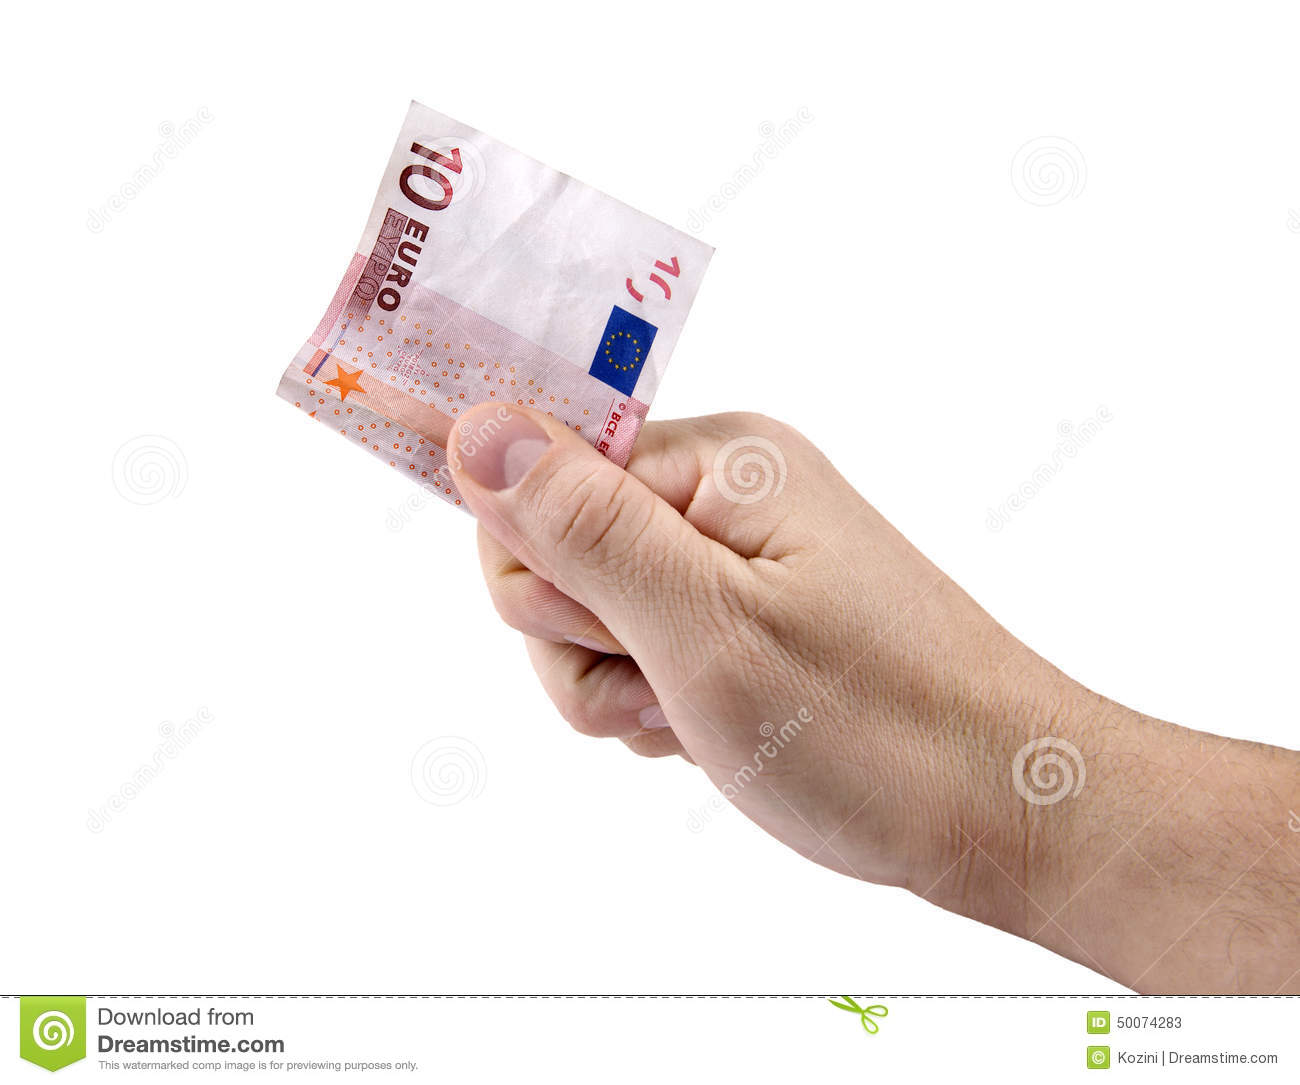billete: (271, 95, 725, 528)
